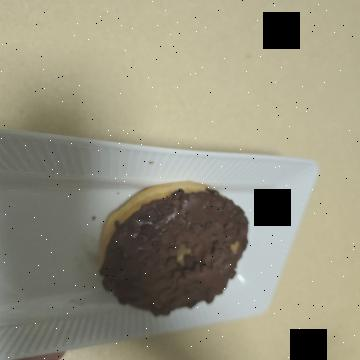doughnut: (168, 103, 322, 286)
